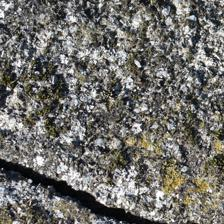Crack: (4, 150, 147, 223)
